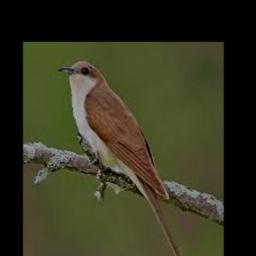Cuckoo: (57, 60, 194, 256)
